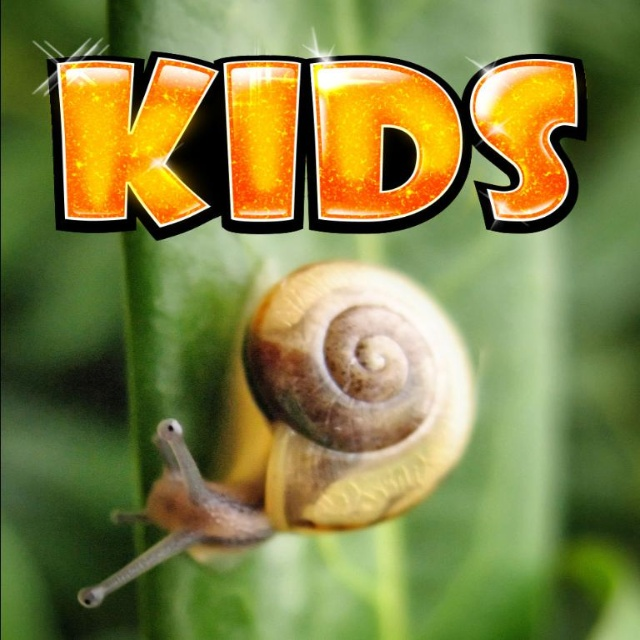Snail: (73, 256, 483, 612)
